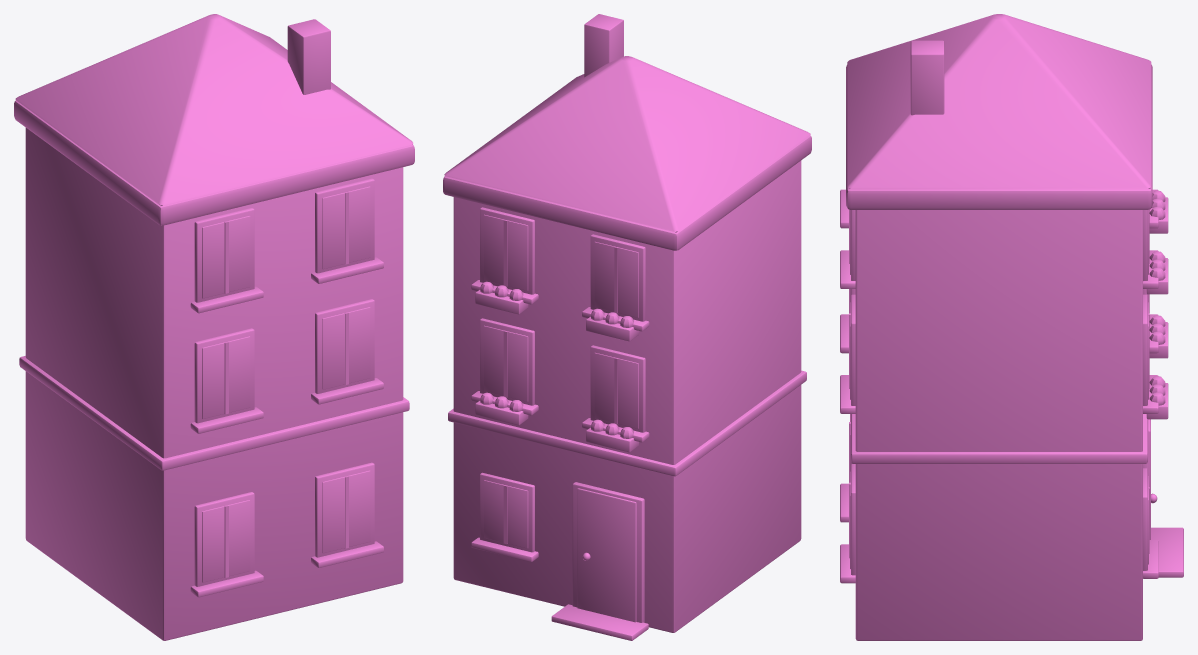
Rendered from OldTown_TownhouseLow.fbx.
3 views of the same model, side by side, from view 1: azimuth 30°, elevation 25°; view 2: azimuth 150°, elevation 25°; view 3: azimuth 270°, elevation 25° (orthographic). The views are drawn at different scales.
Visible parts, largest first — view 1: Paint, Body; view 2: Paint, Body; view 3: Paint, Body.
Part boxes in pixels (x1,y1,x2,y2): Paint: (25, 128, 403, 640); Body: (14, 14, 414, 597); Paint: (453, 160, 801, 632); Body: (443, 14, 811, 640); Paint: (855, 210, 1142, 640); Body: (840, 14, 1183, 583).
Size of the model in its own units: 12.8 by 26.15 by 14.35.
1 material, 1 textured.
